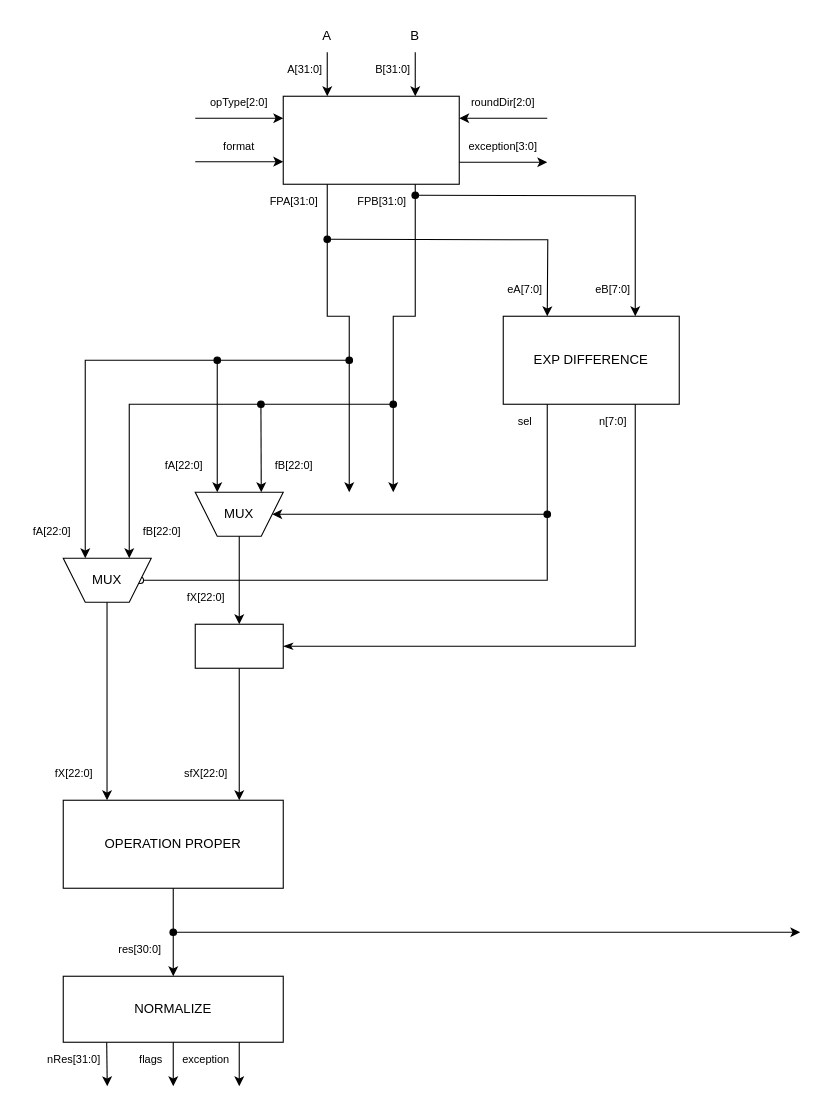
The diagram is 829 pixels wide and 1114 high, and some of its shapes have lost their labels. Each missing label, with the centre of its shape:
ALIGN: [238,645]
CONVERTER: [370,139]
